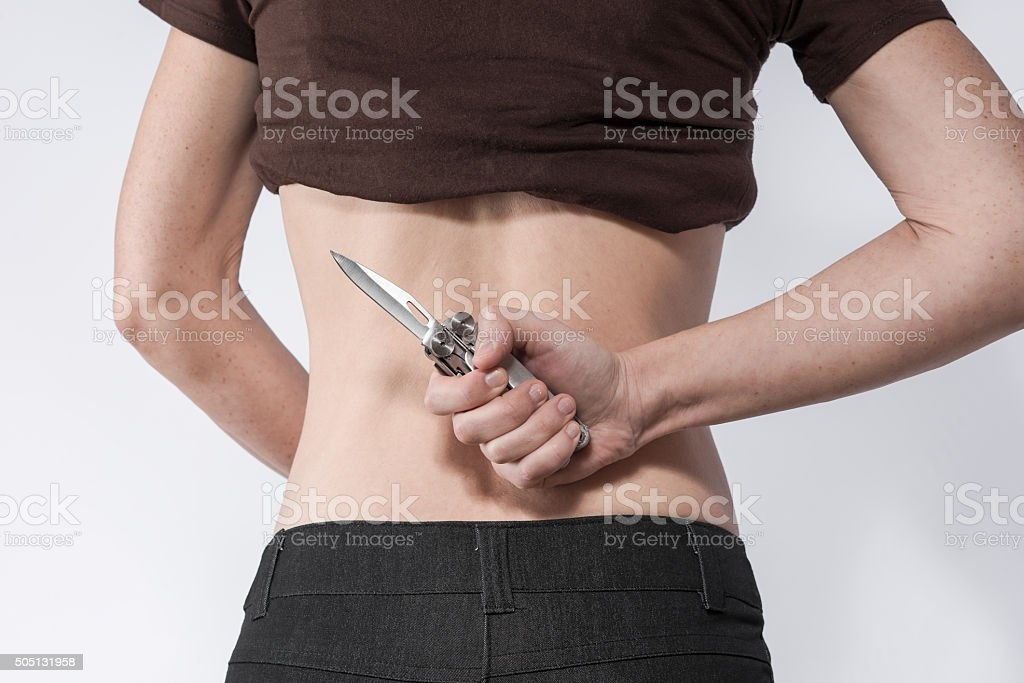knife: (326, 248, 593, 451)
